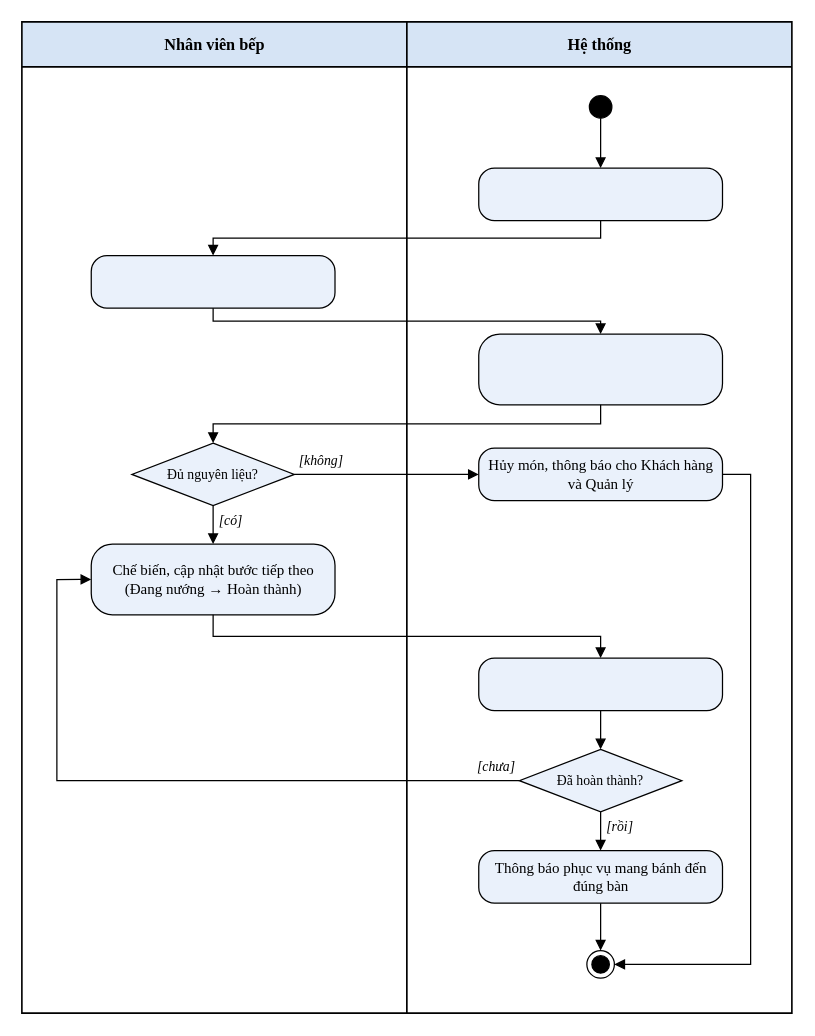
This 815x1036 diagram has some shape labels left out. Here are the shapes that lost their labels. From the top down, the centre of each, then its label:
At [600,194]: "Phát âm báo, hiển thị đơn mới theo thứ tự thời gian".
At [212,281]: "Xem chi tiết đơn, chọn “Nhận đơn”".
At [600,369]: "Chuyển trạng thái “Chuẩn bị nguyên liệu”, đồng bộ màn hình bàn".
At [600,684]: "Ghi nhận trạng thái, đồng bộ đến màn hình tại bàn".
